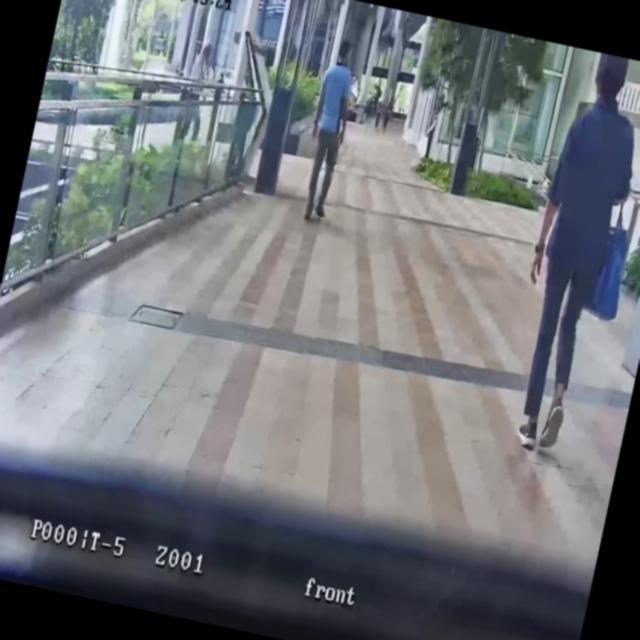person: (492, 47, 640, 458), (291, 36, 364, 226), (176, 41, 216, 142), (421, 106, 440, 160), (373, 100, 384, 129), (381, 106, 392, 132)
